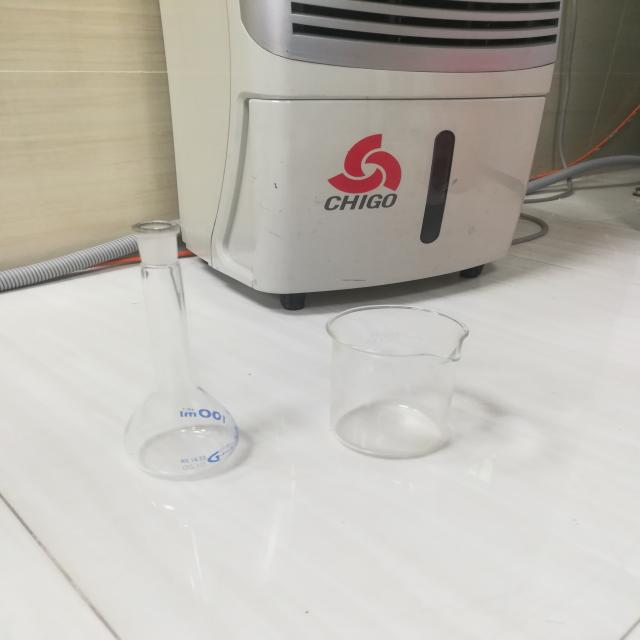Beaker: (306, 286, 490, 467)
Volumetric_Flask: (93, 202, 284, 494)
